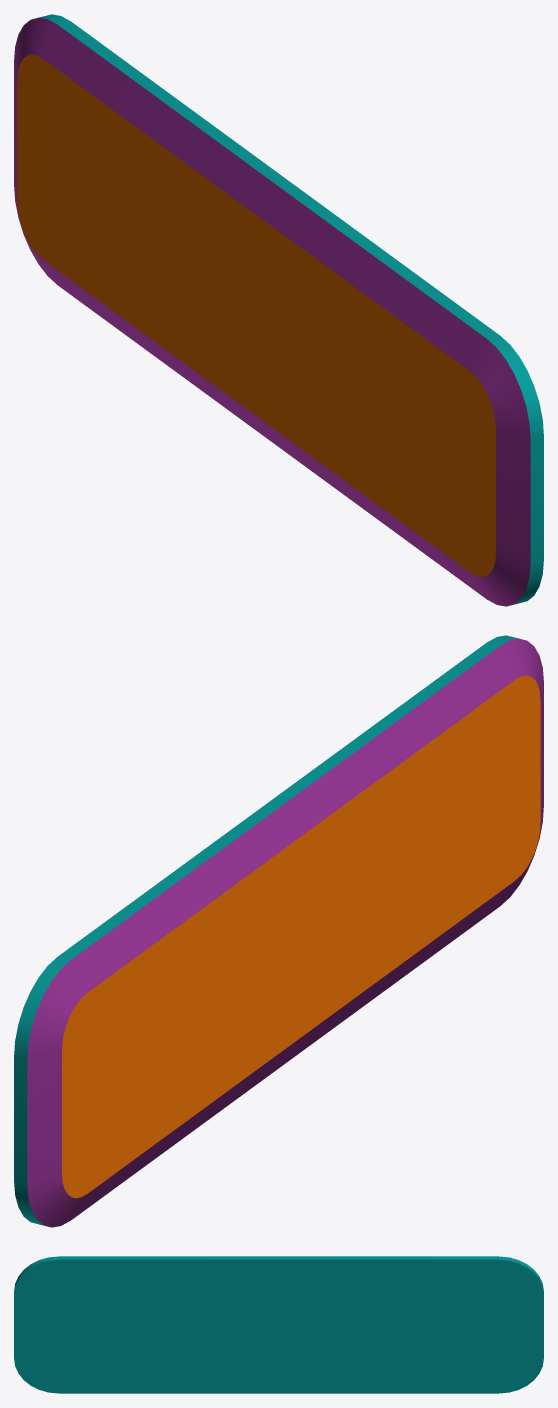
The model's file is House_47.fbx.
3 views of the same model, one above another, from view 1: azimuth 30°, elevation 25°; view 2: azimuth 150°, elevation 25°; view 3: azimuth 270°, elevation 25° (orthographic). The views are drawn at different scales.
Visible parts, largest first — view 1: House_47; view 2: House_47; view 3: House_47.
Part boxes in pixels (x1=…): House_47: x1=14, y1=14, x2=543, y2=606; House_47: x1=14, y1=635, x2=543, y2=1227; House_47: x1=14, y1=1256, x2=543, y2=1393.
Size of the model in its own units: 4.47 by 38.54 by 138.
